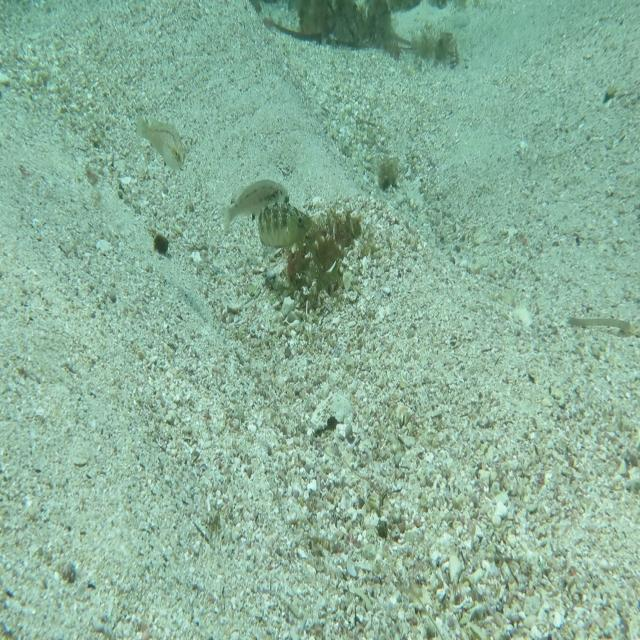BEND_OPP: (256, 182, 313, 252)
female: (222, 172, 290, 233)
nest: (276, 197, 379, 311)
other_fish: (131, 105, 198, 177)
